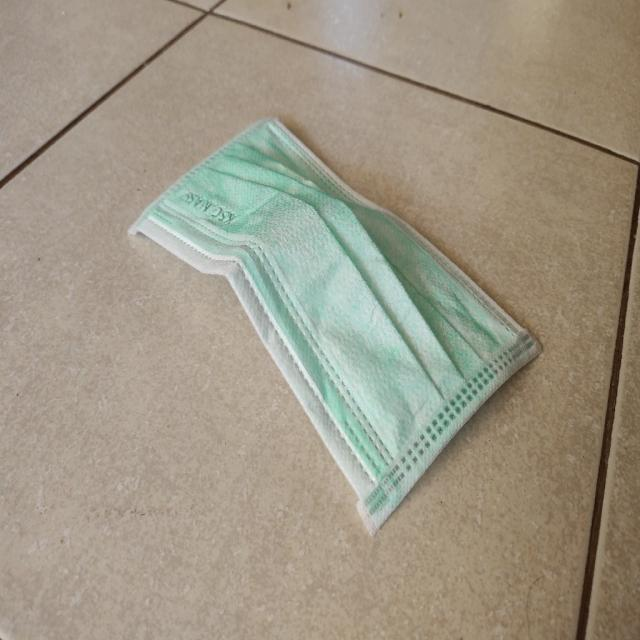non-organic waste: (126, 111, 534, 527)
